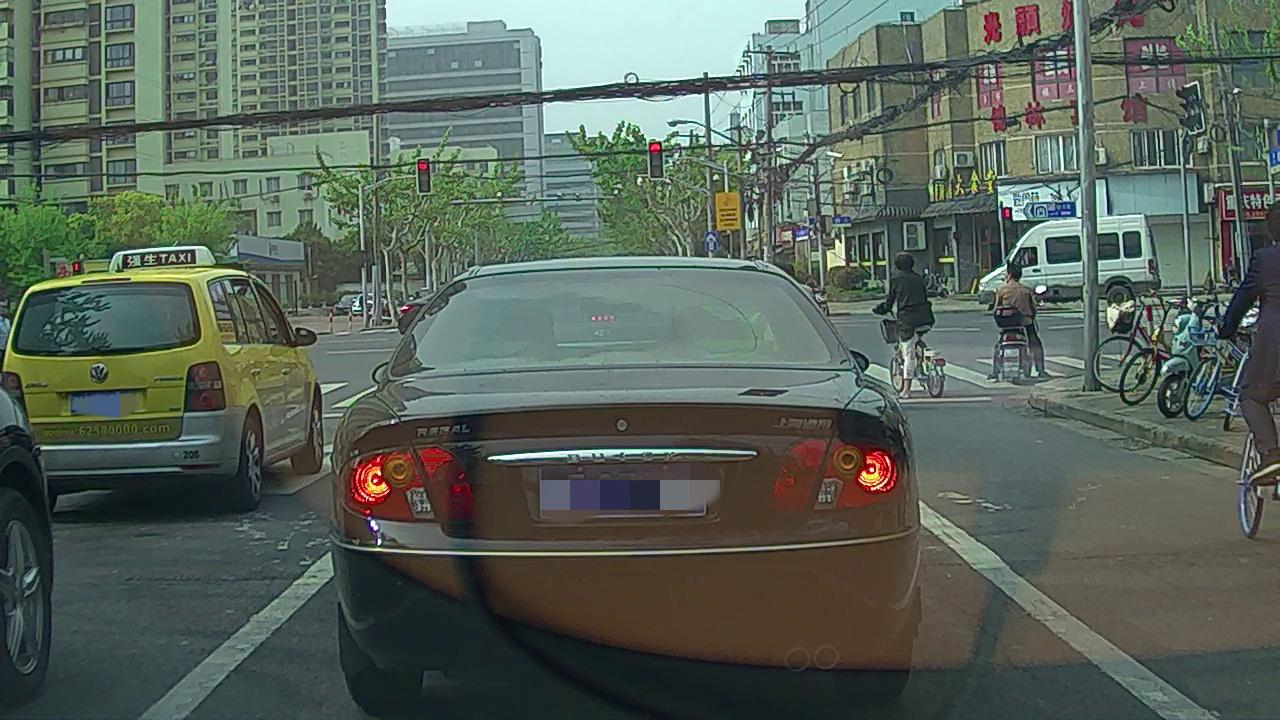traffic_light: (649, 140, 663, 179), (417, 158, 430, 193)
